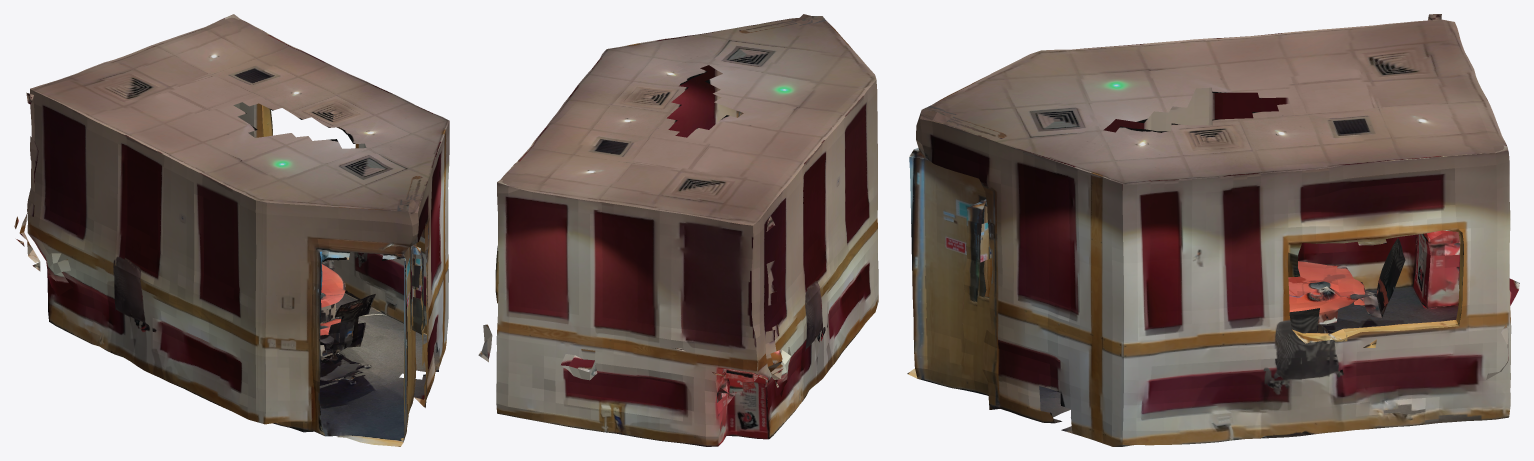
The model's file is M212_studio_2-IM.fbx.
3 renders of one model, left to right at view 1: azimuth 30°, elevation 25°; view 2: azimuth 150°, elevation 25°; view 3: azimuth 270°, elevation 25°, orthographic. The views are drawn at different scales.
Visible parts, largest first — view 1: M212_studio_2-IM; view 2: M212_studio_2-IM; view 3: M212_studio_2-IM.
Part boxes in pixels (x1=…): M212_studio_2-IM: x1=14, y1=14, x2=449, y2=446; M212_studio_2-IM: x1=478, y1=14, x2=878, y2=446; M212_studio_2-IM: x1=907, y1=14, x2=1519, y2=446.
Bounding box in the file's own units: 343 × 252 × 503.
Materials: 1 (1 with a texture image).
